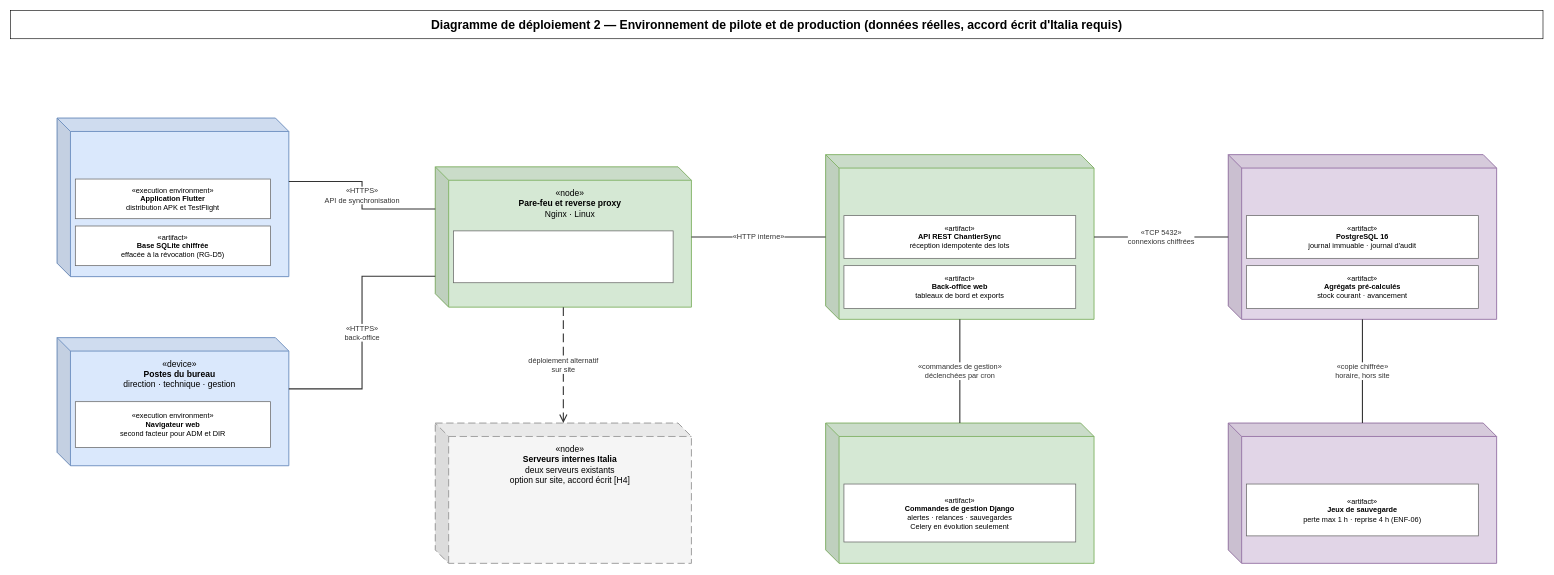
Image size: 1554x575. Some labels were removed from this diagram. The box of each missing label's shape, as (x1, y1, x2, y2) in pixels:
«artifact» Certificat TLS 1.2+ HTTPS obligatoire (ENF-07): (453, 230, 673, 283)
«device» Smartphones de chantier parc Android et iOS · base locale chiffrée: (56, 117, 289, 277)
«node» Ordonnanceur cron · Linux: (825, 422, 1094, 564)
«node» Sauvegarde hors site copie chiffrée: (1228, 422, 1497, 564)
«node» Serveur d'application Linux · Gunicorn: (825, 154, 1094, 320)
«node» Serveur de données Linux · volumes chiffrés: (1228, 154, 1497, 320)
